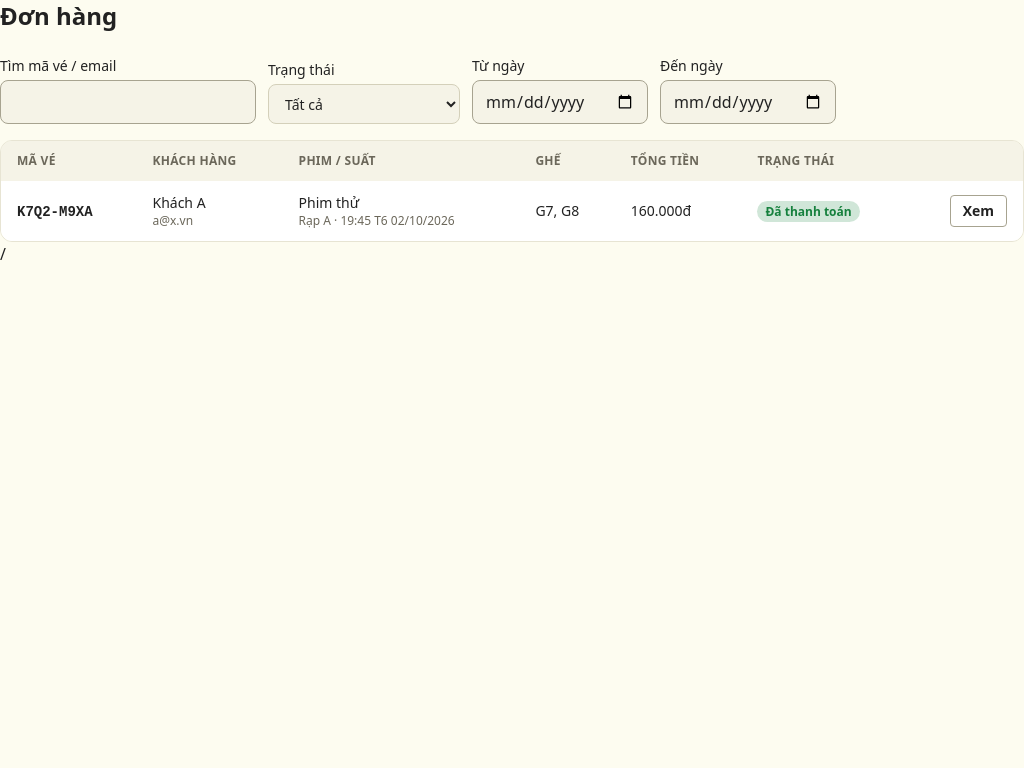
Test: AdminOrdersPage (A06) › đơn đã thanh toán: xem được giao dịch nhưng KHÔNG có nút hoàn tiền
Click the button with aria-label "Xem đơn K7Q2-M9XA" at [978, 211], box [950,195,1007,227]
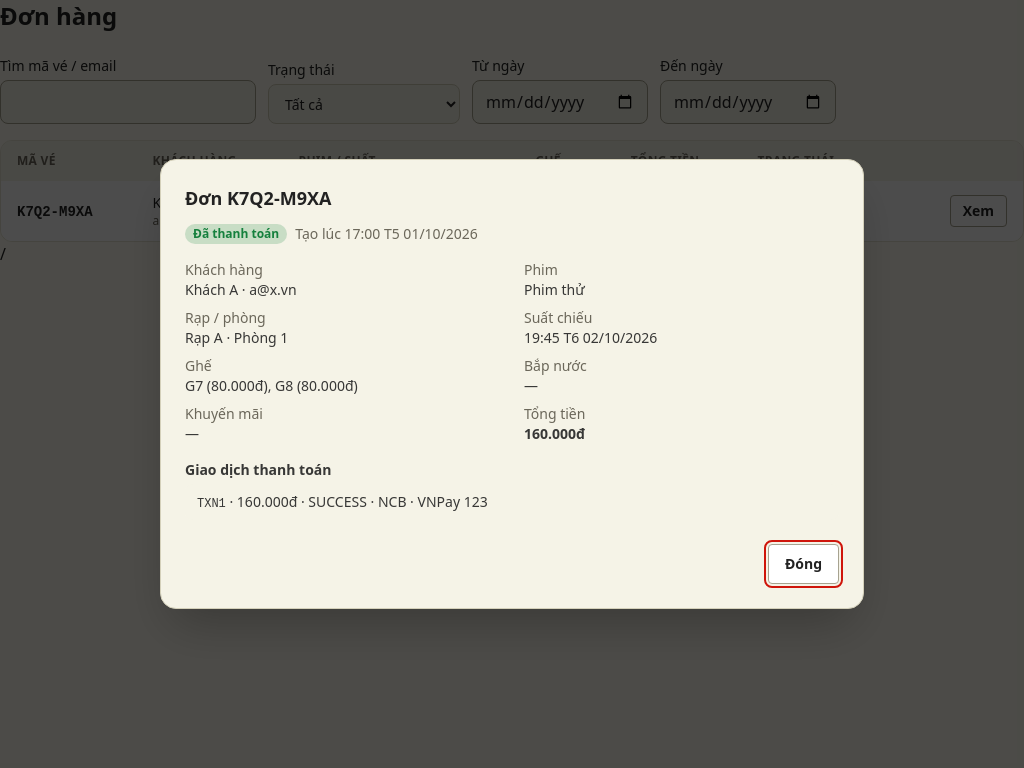
Expected: the text "TXN1" is shown, [197,497,226,511]
